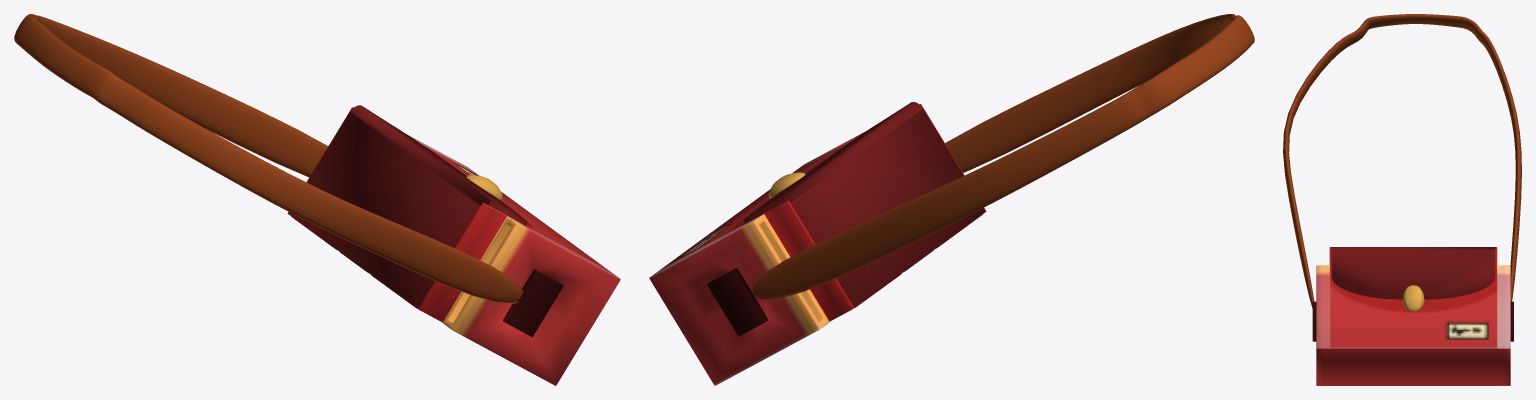
Rendered from Bag.fbx.
3 renders of one model, left to right at view 1: azimuth 30°, elevation 25°; view 2: azimuth 150°, elevation 25°; view 3: azimuth 270°, elevation 25°, orthographic. The views are drawn at different scales.
Parts seen in each view (by area): view 1: Sphere.006; view 2: Sphere.006; view 3: Sphere.006.
Part boxes in pixels (x1=…): Sphere.006: x1=14, y1=14, x2=620, y2=385; Sphere.006: x1=649, y1=14, x2=1254, y2=385; Sphere.006: x1=1283, y1=14, x2=1521, y2=385.
Bounding box in the file's own units: 52.61 × 39.16 × 34.75.
